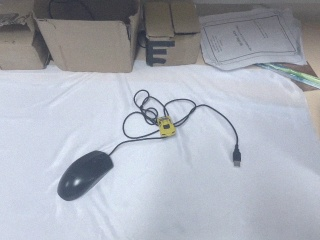box: (32, 1, 144, 75), (139, 1, 202, 68), (1, 20, 52, 72)
mouse: (57, 150, 114, 201)
toy_car: (154, 112, 177, 141)
